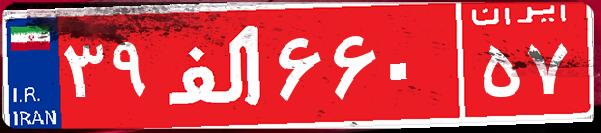0: (385, 28, 445, 110)
3: (57, 26, 110, 107)
5: (475, 38, 525, 113)
6: (273, 28, 330, 110), (330, 28, 385, 110)
7: (525, 38, 570, 115)
9: (110, 28, 158, 105)
الف: (158, 15, 273, 115)
